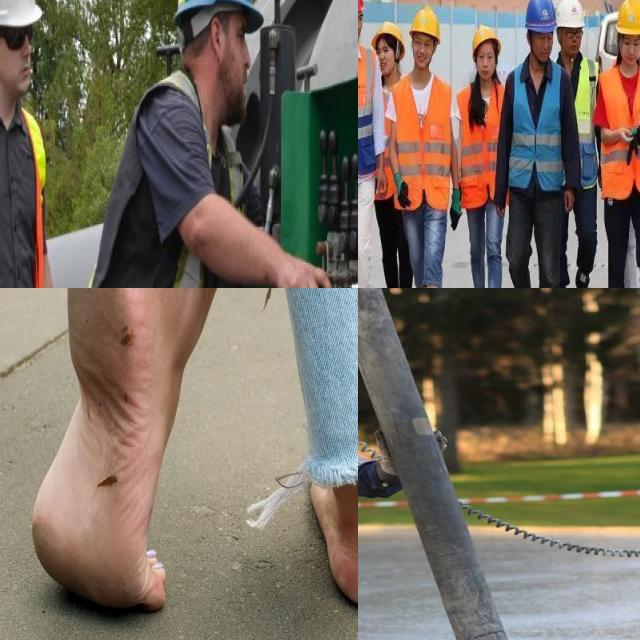Barefoots: (30, 288, 166, 611), (310, 444, 358, 611)
No_Ear-Protection: (208, 11, 226, 60)
No_Glasses: (208, 10, 253, 53)
face_nomask: (202, 11, 253, 126), (0, 12, 40, 94)
glasses: (2, 20, 37, 56), (563, 24, 585, 42)
hand_glove: (447, 187, 465, 231), (394, 170, 412, 212)
hand_noglove: (276, 247, 337, 288), (374, 158, 391, 200), (615, 122, 633, 149), (562, 188, 574, 218)
head_helmet: (175, 0, 259, 29), (0, 0, 46, 33), (409, 6, 441, 42), (371, 22, 404, 54), (526, 0, 557, 34), (555, 0, 584, 32), (614, 0, 640, 35), (471, 28, 502, 56), (629, 0, 640, 15)
person: (78, 0, 258, 288), (0, 0, 66, 288), (509, 0, 566, 288), (396, 4, 453, 288), (556, 0, 601, 288), (461, 16, 506, 288), (369, 22, 414, 288), (599, 0, 640, 288), (358, 0, 385, 288)
vest: (94, 75, 217, 288), (0, 75, 54, 288), (394, 78, 458, 202), (513, 69, 570, 201), (459, 86, 510, 197), (563, 56, 601, 177), (603, 70, 640, 193), (358, 55, 385, 172), (378, 75, 398, 191)
